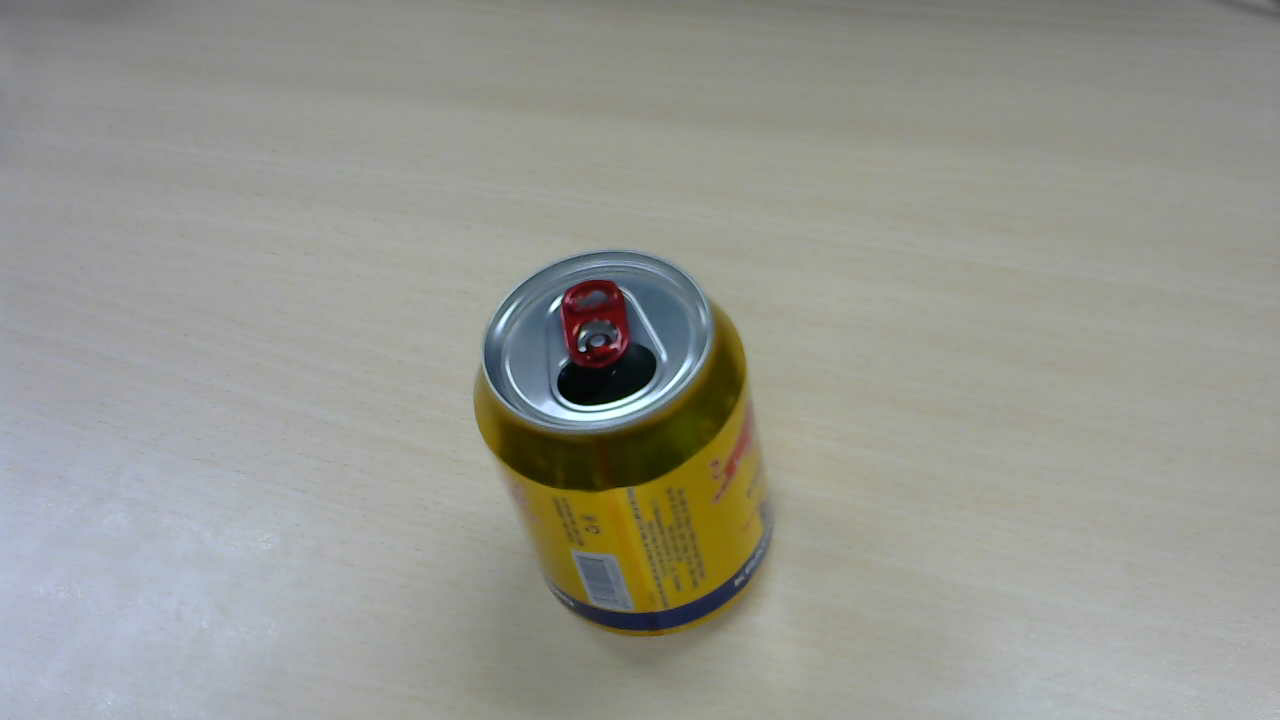Red_Bull: (476, 242, 784, 655)
